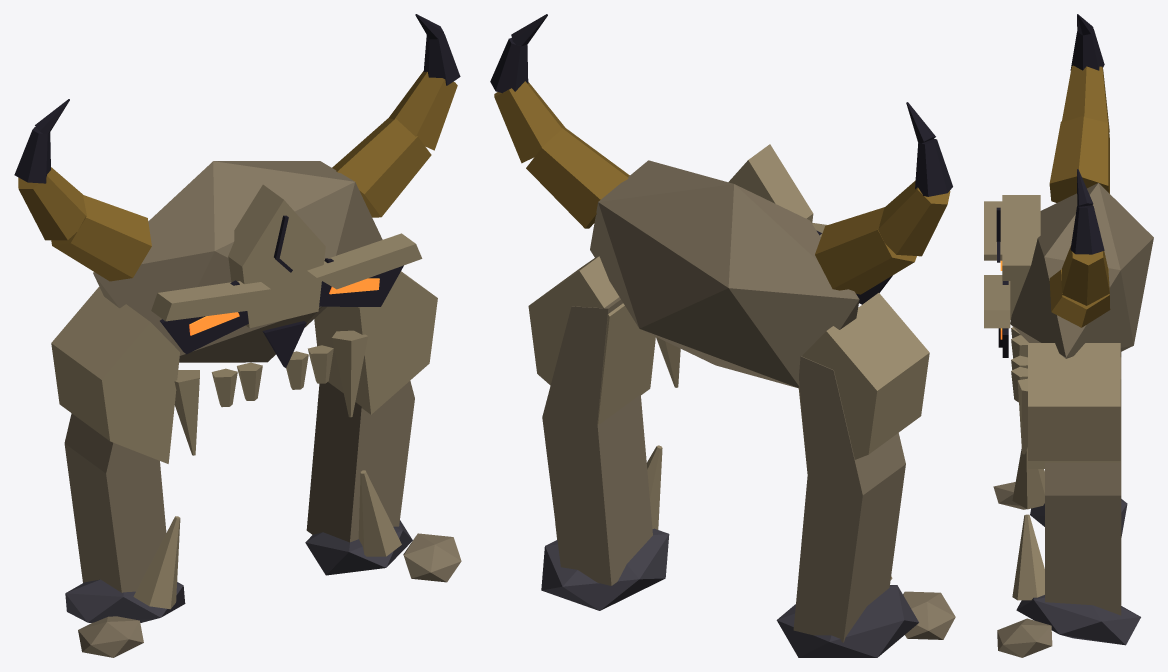
The model's file is Demon_Skull_Gateway.glb.
The picture shows the model from 3 angles, left to right: view 1: azimuth 30°, elevation 25°; view 2: azimuth 150°, elevation 25°; view 3: azimuth 270°, elevation 25°; orthographic projection. The views are drawn at different scales.
Visible parts, largest first — view 1: Demon_Skull_Gateway; view 2: Demon_Skull_Gateway; view 3: Demon_Skull_Gateway.
Boxes of the visible parts, <box> form: Demon_Skull_Gateway: <box>14,14,461,657</box>; Demon_Skull_Gateway: <box>490,14,955,657</box>; Demon_Skull_Gateway: <box>984,14,1153,657</box>.
Bounding box in the file's own units: 4.22 × 4.94 × 1.54.
